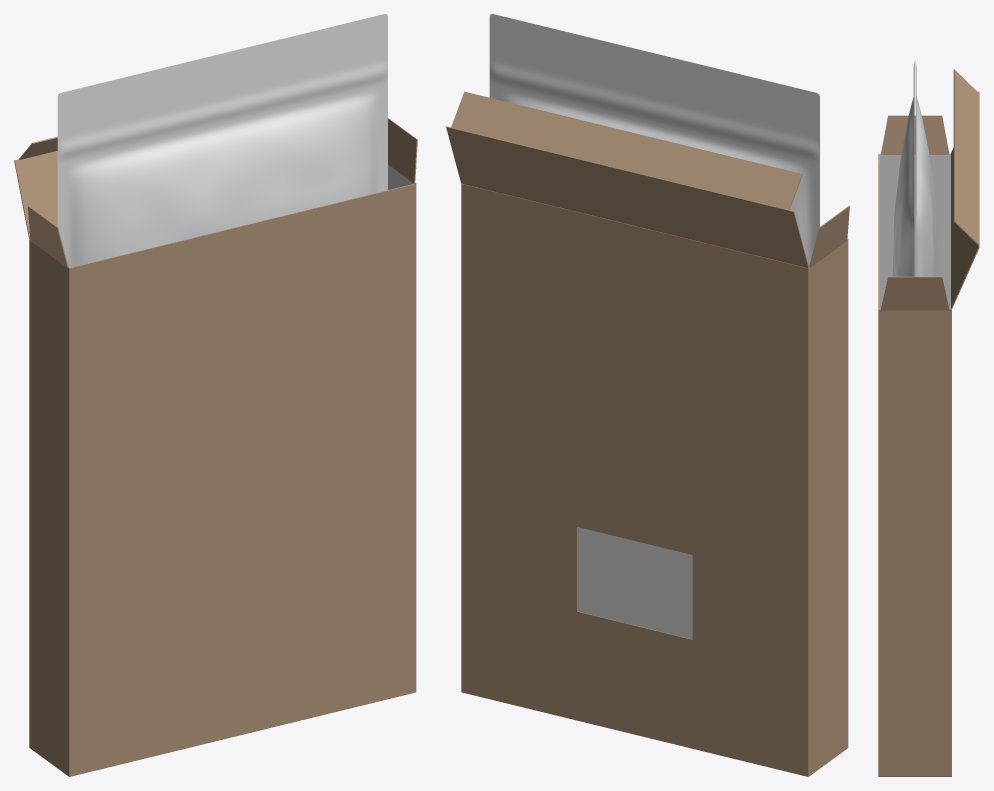
The model's file is flower-box-standard-open.glb.
3 renders of one model, left to right at view 1: azimuth 30°, elevation 25°; view 2: azimuth 150°, elevation 25°; view 3: azimuth 270°, elevation 25°, orthographic. The views are drawn at different scales.
Visible parts, largest first — view 1: fstd_body, fsp, fstd_lid, fstd_dustp1, fstd_dustp-1; view 2: fstd_body, fsp, fstd_lid, fstd_tuck, fstd_film, fstd_dustp-1; view 3: fstd_body, fsp, fstd_tuck, fstd_dustp1, fstd_dustp-1, fstd_lid.
Part boxes in pixels (x1,y1,x2,y2): fstd_body: [29, 164, 416, 776]; fsp: [57, 14, 387, 267]; fstd_lid: [14, 151, 57, 238]; fstd_dustp1: [388, 118, 417, 183]; fstd_dustp-1: [28, 206, 68, 267]; fstd_body: [461, 183, 848, 776]; fsp: [489, 14, 819, 266]; fstd_lid: [446, 126, 808, 268]; fstd_tuck: [451, 91, 802, 210]; fstd_film: [578, 527, 691, 638]; fstd_dustp-1: [809, 206, 849, 267]; fstd_body: [878, 153, 951, 776]; fsp: [892, 61, 937, 276]; fstd_tuck: [953, 69, 979, 245]; fstd_dustp1: [881, 276, 949, 310]; fstd_dustp-1: [881, 115, 949, 154]; fstd_lid: [951, 91, 979, 309].
Bounding box in the file's own units: 0.1557 × 0.275 × 0.0412.
